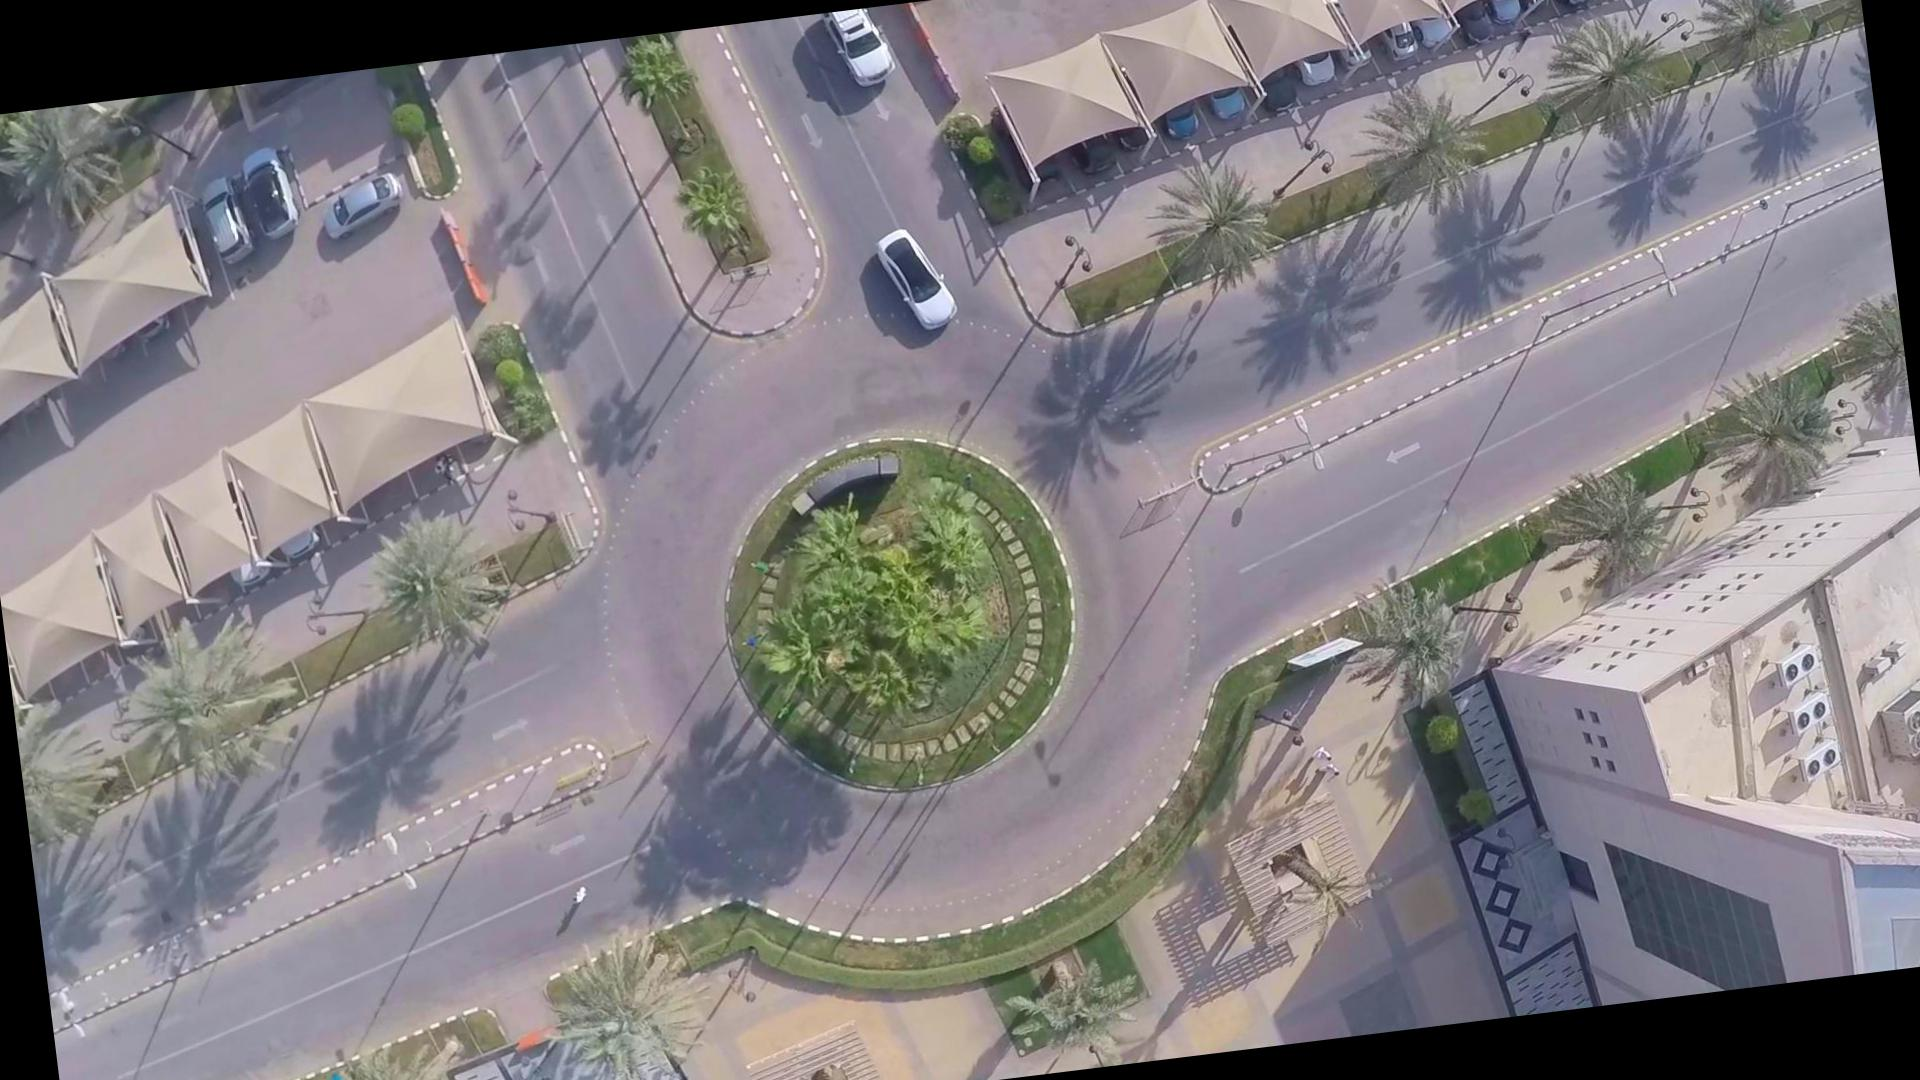vehicle: (888, 226, 960, 344)
